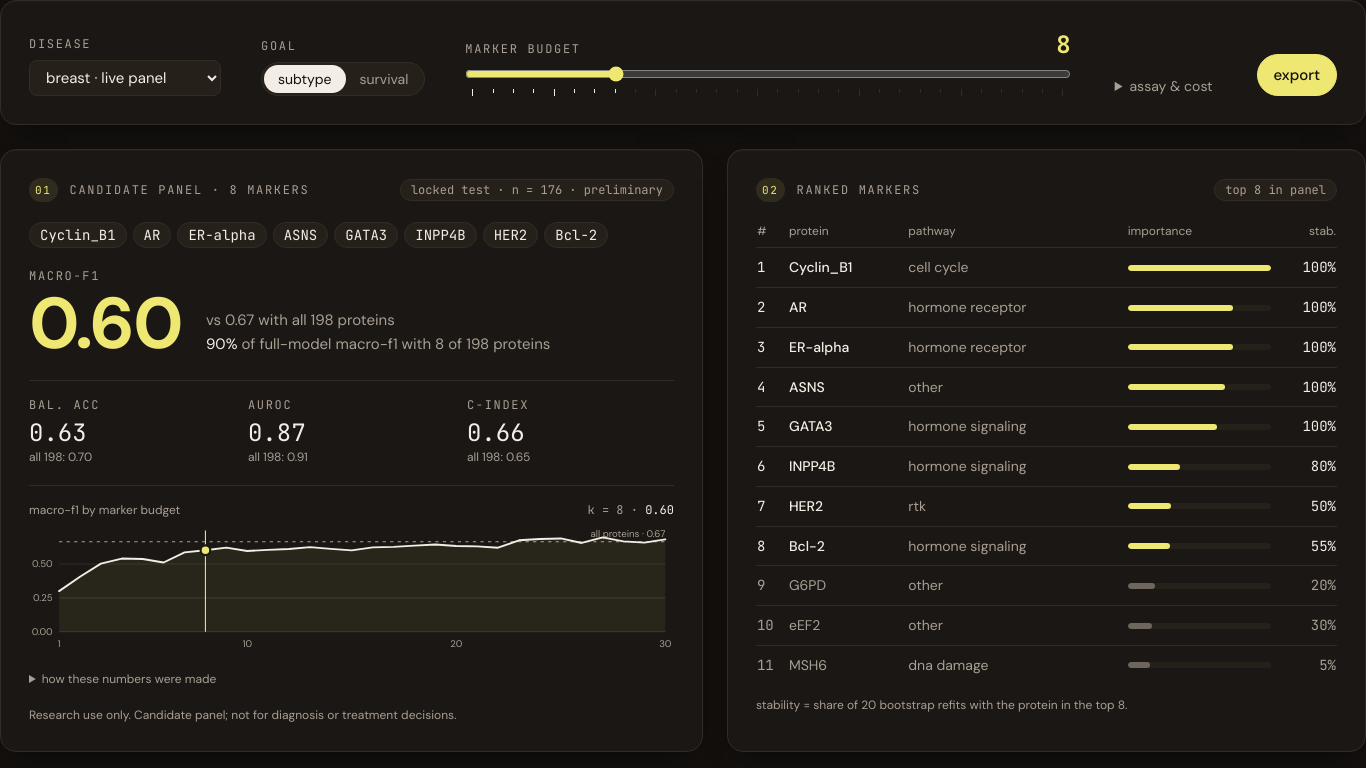
Test: moving the slider updates the panel card
This screenshot has width=1366, height=768.
Expected: the heading "01 candidate panel · 8 markers" is shown, [29,178,309,202]
Expected: the text "0.60" next to "vs" is shown, [29,277,182,370]
Set the slider labelled "marker budget" to "3" at (514, 74), box [465,70,1071,78]
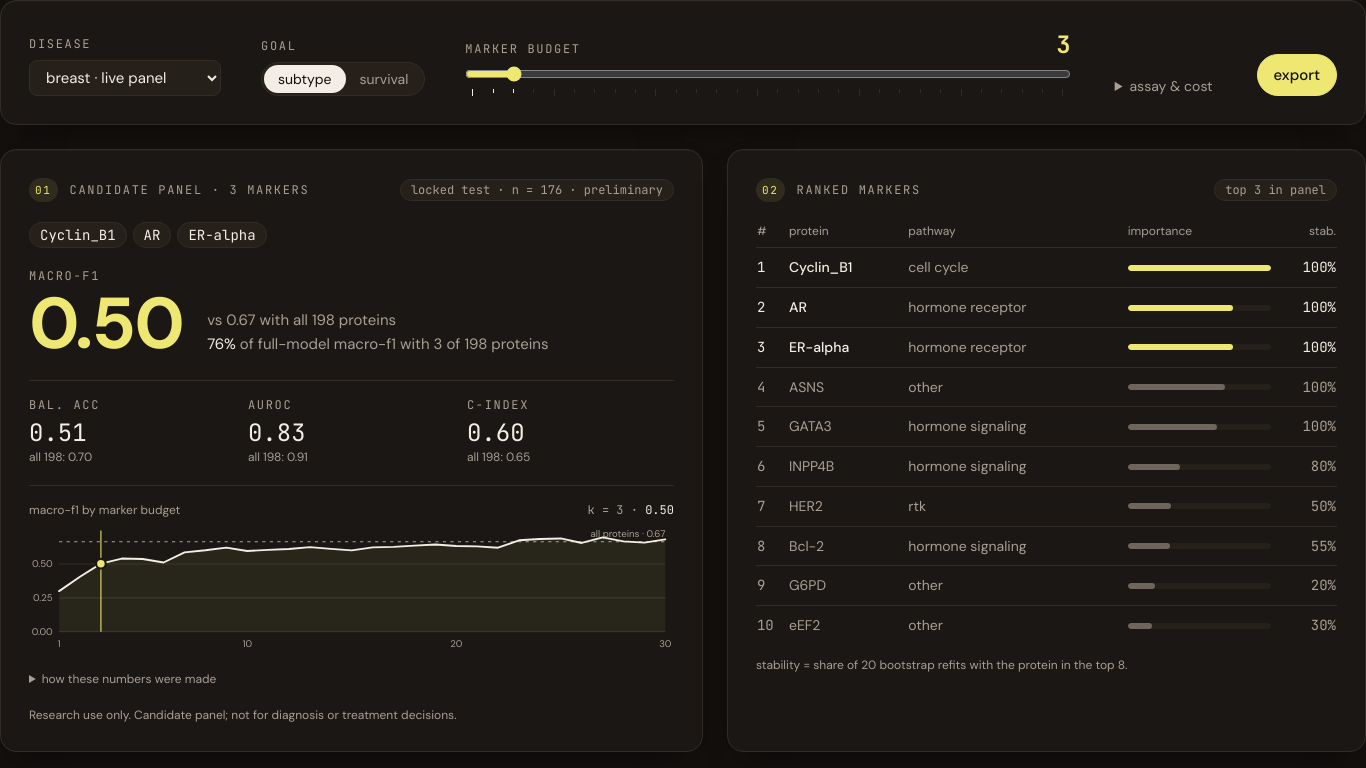
Expected: the heading "01 candidate panel · 3 markers" is shown, [29,178,309,202]
Expected: the text "0.50" next to "vs" is shown, [29,277,183,370]
Expected: the number of list items is 3, [29,222,127,248]; [133,222,171,248]; [177,222,267,248]
